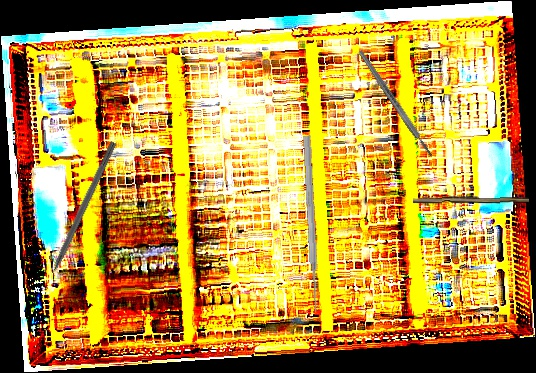Hook Surgical: (40, 140, 118, 291)
Pusher: (300, 135, 322, 312)
Scalpel Handle: (357, 48, 434, 159), (412, 193, 530, 206)
